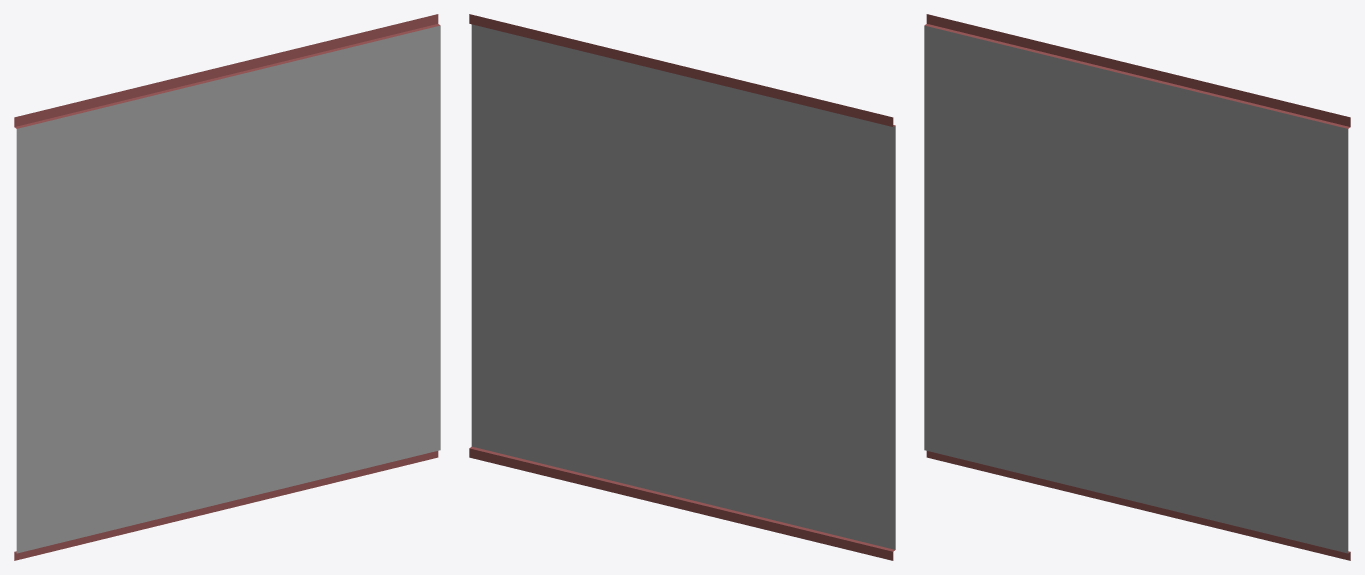
Rendered from Prop_WallInt2_5x2_01.fbx.
3 views of the same model, side by side, from view 1: azimuth 30°, elevation 25°; view 2: azimuth 150°, elevation 25°; view 3: azimuth 330°, elevation 25° (orthographic).
Parts seen in each view (by area): view 1: Prop_WallInt2_5x2_01; view 2: Prop_WallInt2_5x2_01; view 3: Prop_WallInt2_5x2_01.
Boxes of the visible parts, left/top/right/bottom form: Prop_WallInt2_5x2_01: left=14, top=14, right=440, bottom=560; Prop_WallInt2_5x2_01: left=469, top=14, right=895, bottom=560; Prop_WallInt2_5x2_01: left=924, top=14, right=1350, bottom=560.
Size of the model in its own units: 2.5 by 2.5 by 0.025.
